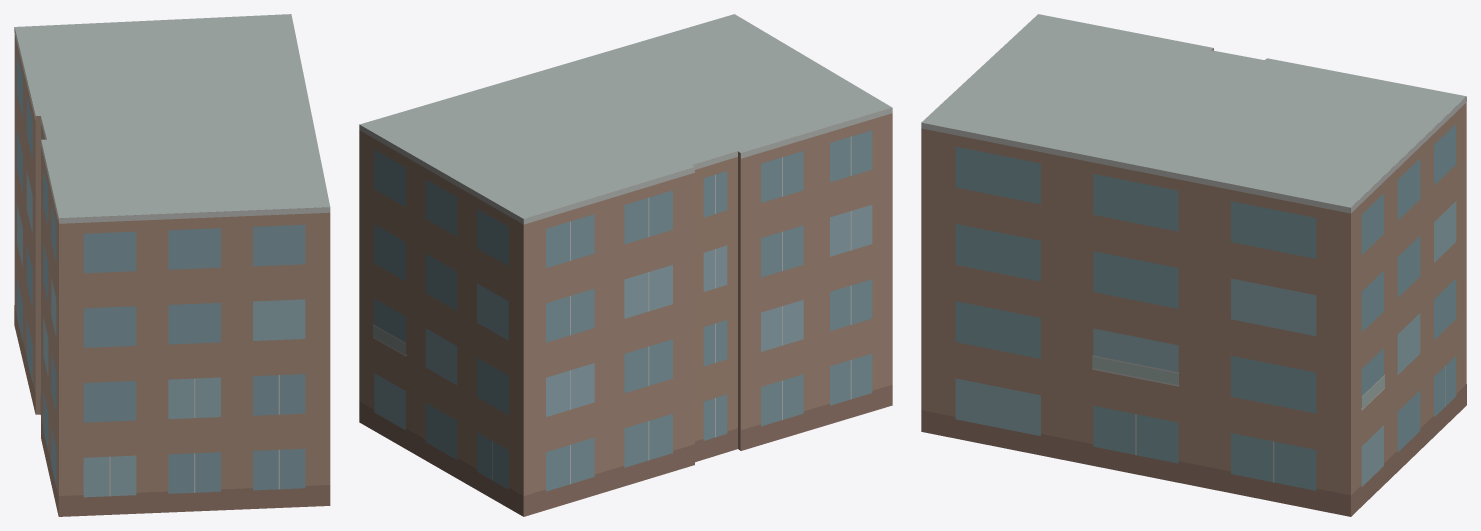
File: survey-upis-32670138.glb
The picture shows the model from 3 angles, left to right: view 1: azimuth 30°, elevation 25°; view 2: azimuth 150°, elevation 25°; view 3: azimuth 270°, elevation 25°; orthographic projection. The views are drawn at different scales.
Visible parts, largest first — view 1: survey-upis-32670138.tmp; view 2: survey-upis-32670138.tmp; view 3: survey-upis-32670138.tmp.
Part boxes in pixels (x1,y1,x2,y2): survey-upis-32670138.tmp: [14, 14, 330, 516]; survey-upis-32670138.tmp: [359, 14, 892, 516]; survey-upis-32670138.tmp: [921, 14, 1466, 516].
Size of the model in its own units: 17.49 by 13 by 20.8.
